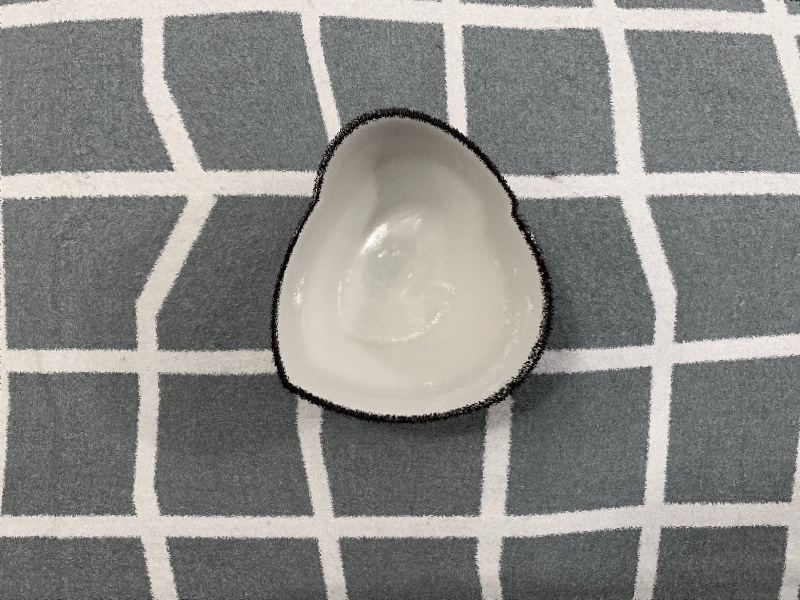bowl_small: (221, 101, 580, 432)
